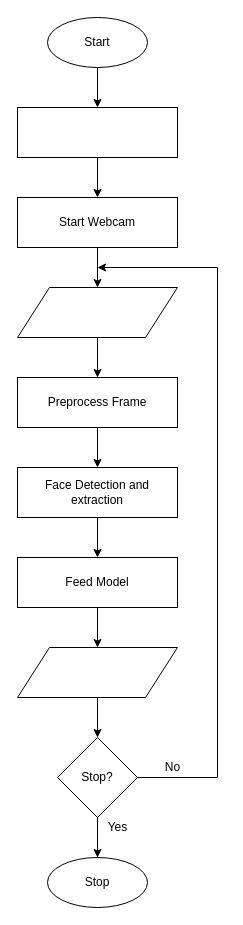
Some shapes in this 243 by 925 pixel diagram are drawn without their labels. Here are the shapes that lost their labels. From the top down, the centre of each, then its label:
pixel 97 132: Project Initializations
pixel 97 312: Input Frame
pixel 97 672: Classification Output
